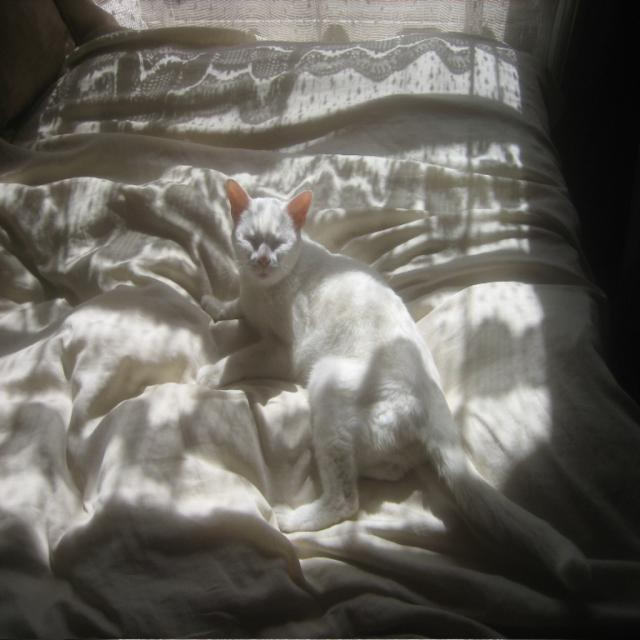Cat: (190, 171, 592, 591)
